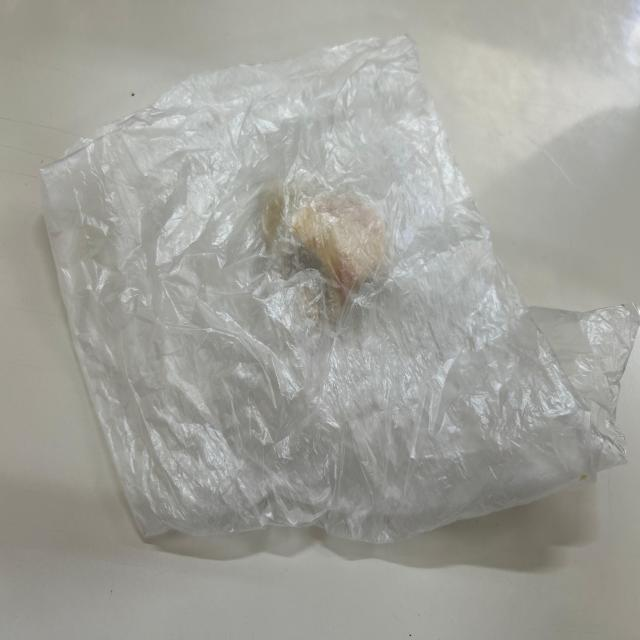inorganic: (41, 36, 640, 543)
